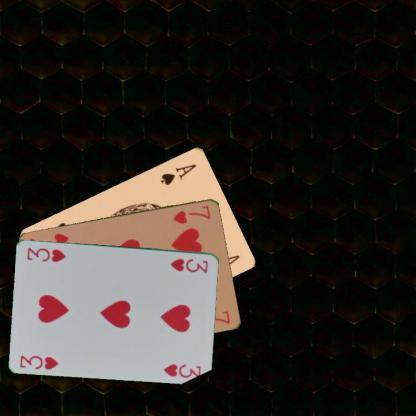3h: (17, 352, 60, 370), (168, 256, 209, 274)
7h: (171, 203, 214, 225)
As: (158, 161, 198, 186)
